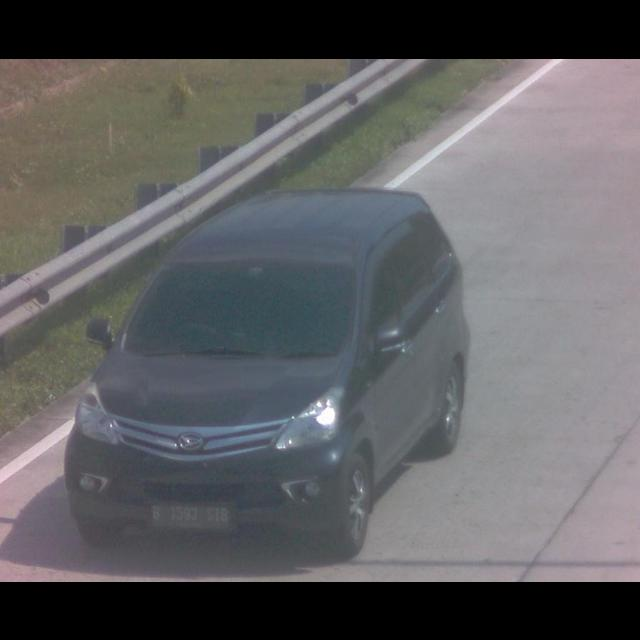plate: (149, 500, 235, 528)
